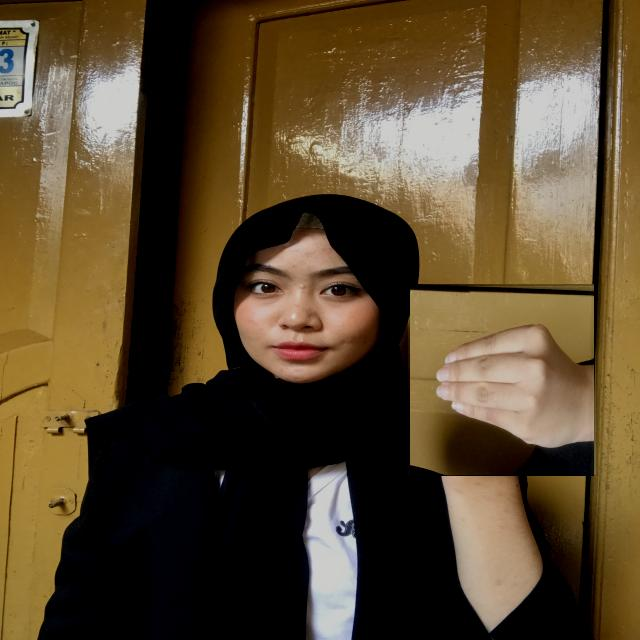kapan: (408, 286, 596, 475)
